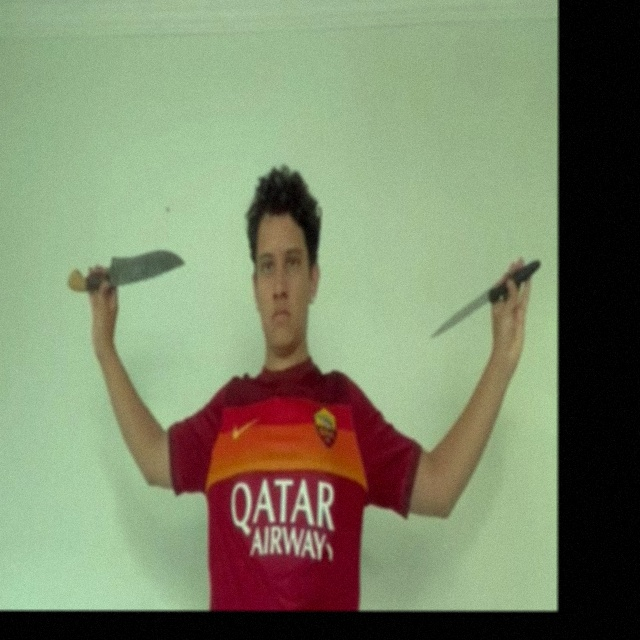Sharp-Object: (429, 287, 489, 339), (107, 251, 185, 286)
